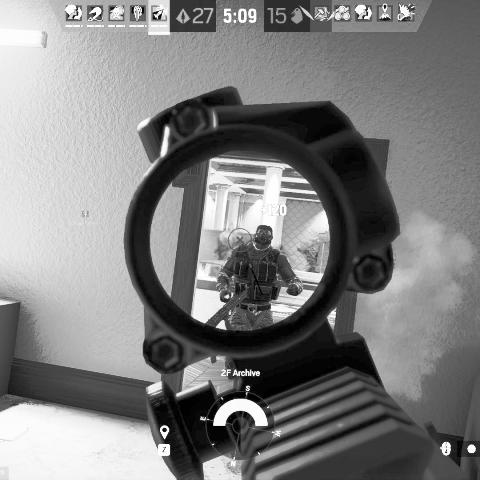Character: (214, 220, 304, 379)
Friend_label: (71, 209, 99, 225)
Head: (253, 222, 276, 251)
